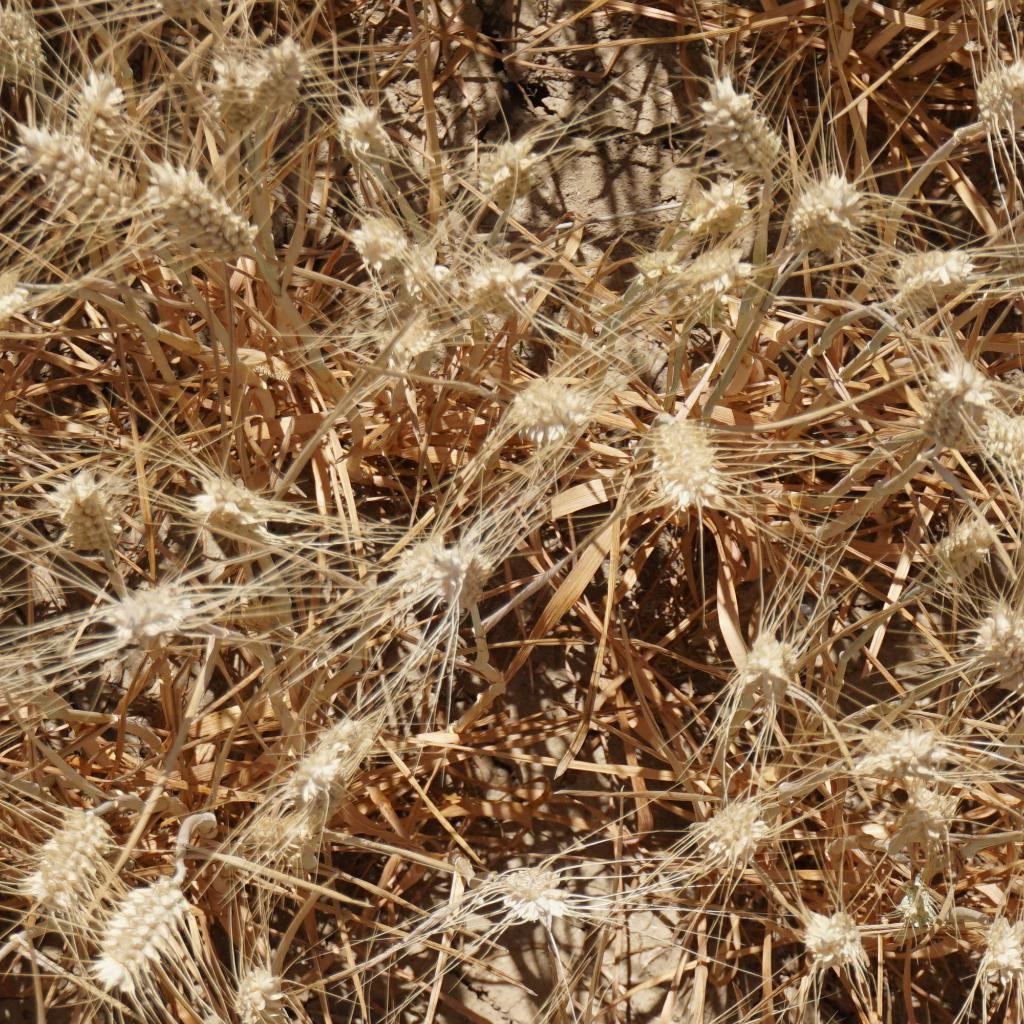0-0: (92, 864, 222, 1002), (6, 120, 123, 222), (132, 149, 251, 249), (7, 795, 104, 909), (488, 833, 596, 935), (384, 502, 496, 600), (104, 569, 226, 653), (273, 712, 370, 813), (698, 60, 787, 169), (177, 460, 289, 543), (57, 454, 137, 563), (700, 783, 793, 874), (882, 220, 970, 313), (772, 167, 858, 258), (661, 399, 728, 512), (718, 620, 811, 700), (961, 602, 1024, 714), (228, 941, 313, 1024), (253, 37, 316, 145), (677, 167, 750, 258), (478, 121, 551, 210), (516, 374, 606, 446), (953, 891, 1024, 976), (204, 43, 263, 143), (917, 354, 978, 449), (797, 896, 872, 972), (53, 60, 132, 132), (336, 100, 413, 171), (880, 779, 958, 848), (958, 53, 1024, 134), (854, 714, 935, 772), (358, 206, 415, 283), (453, 242, 516, 307), (904, 866, 950, 950), (931, 496, 976, 577), (0, 0, 37, 84), (0, 265, 29, 356), (988, 415, 1024, 480), (0, 557, 13, 640)
